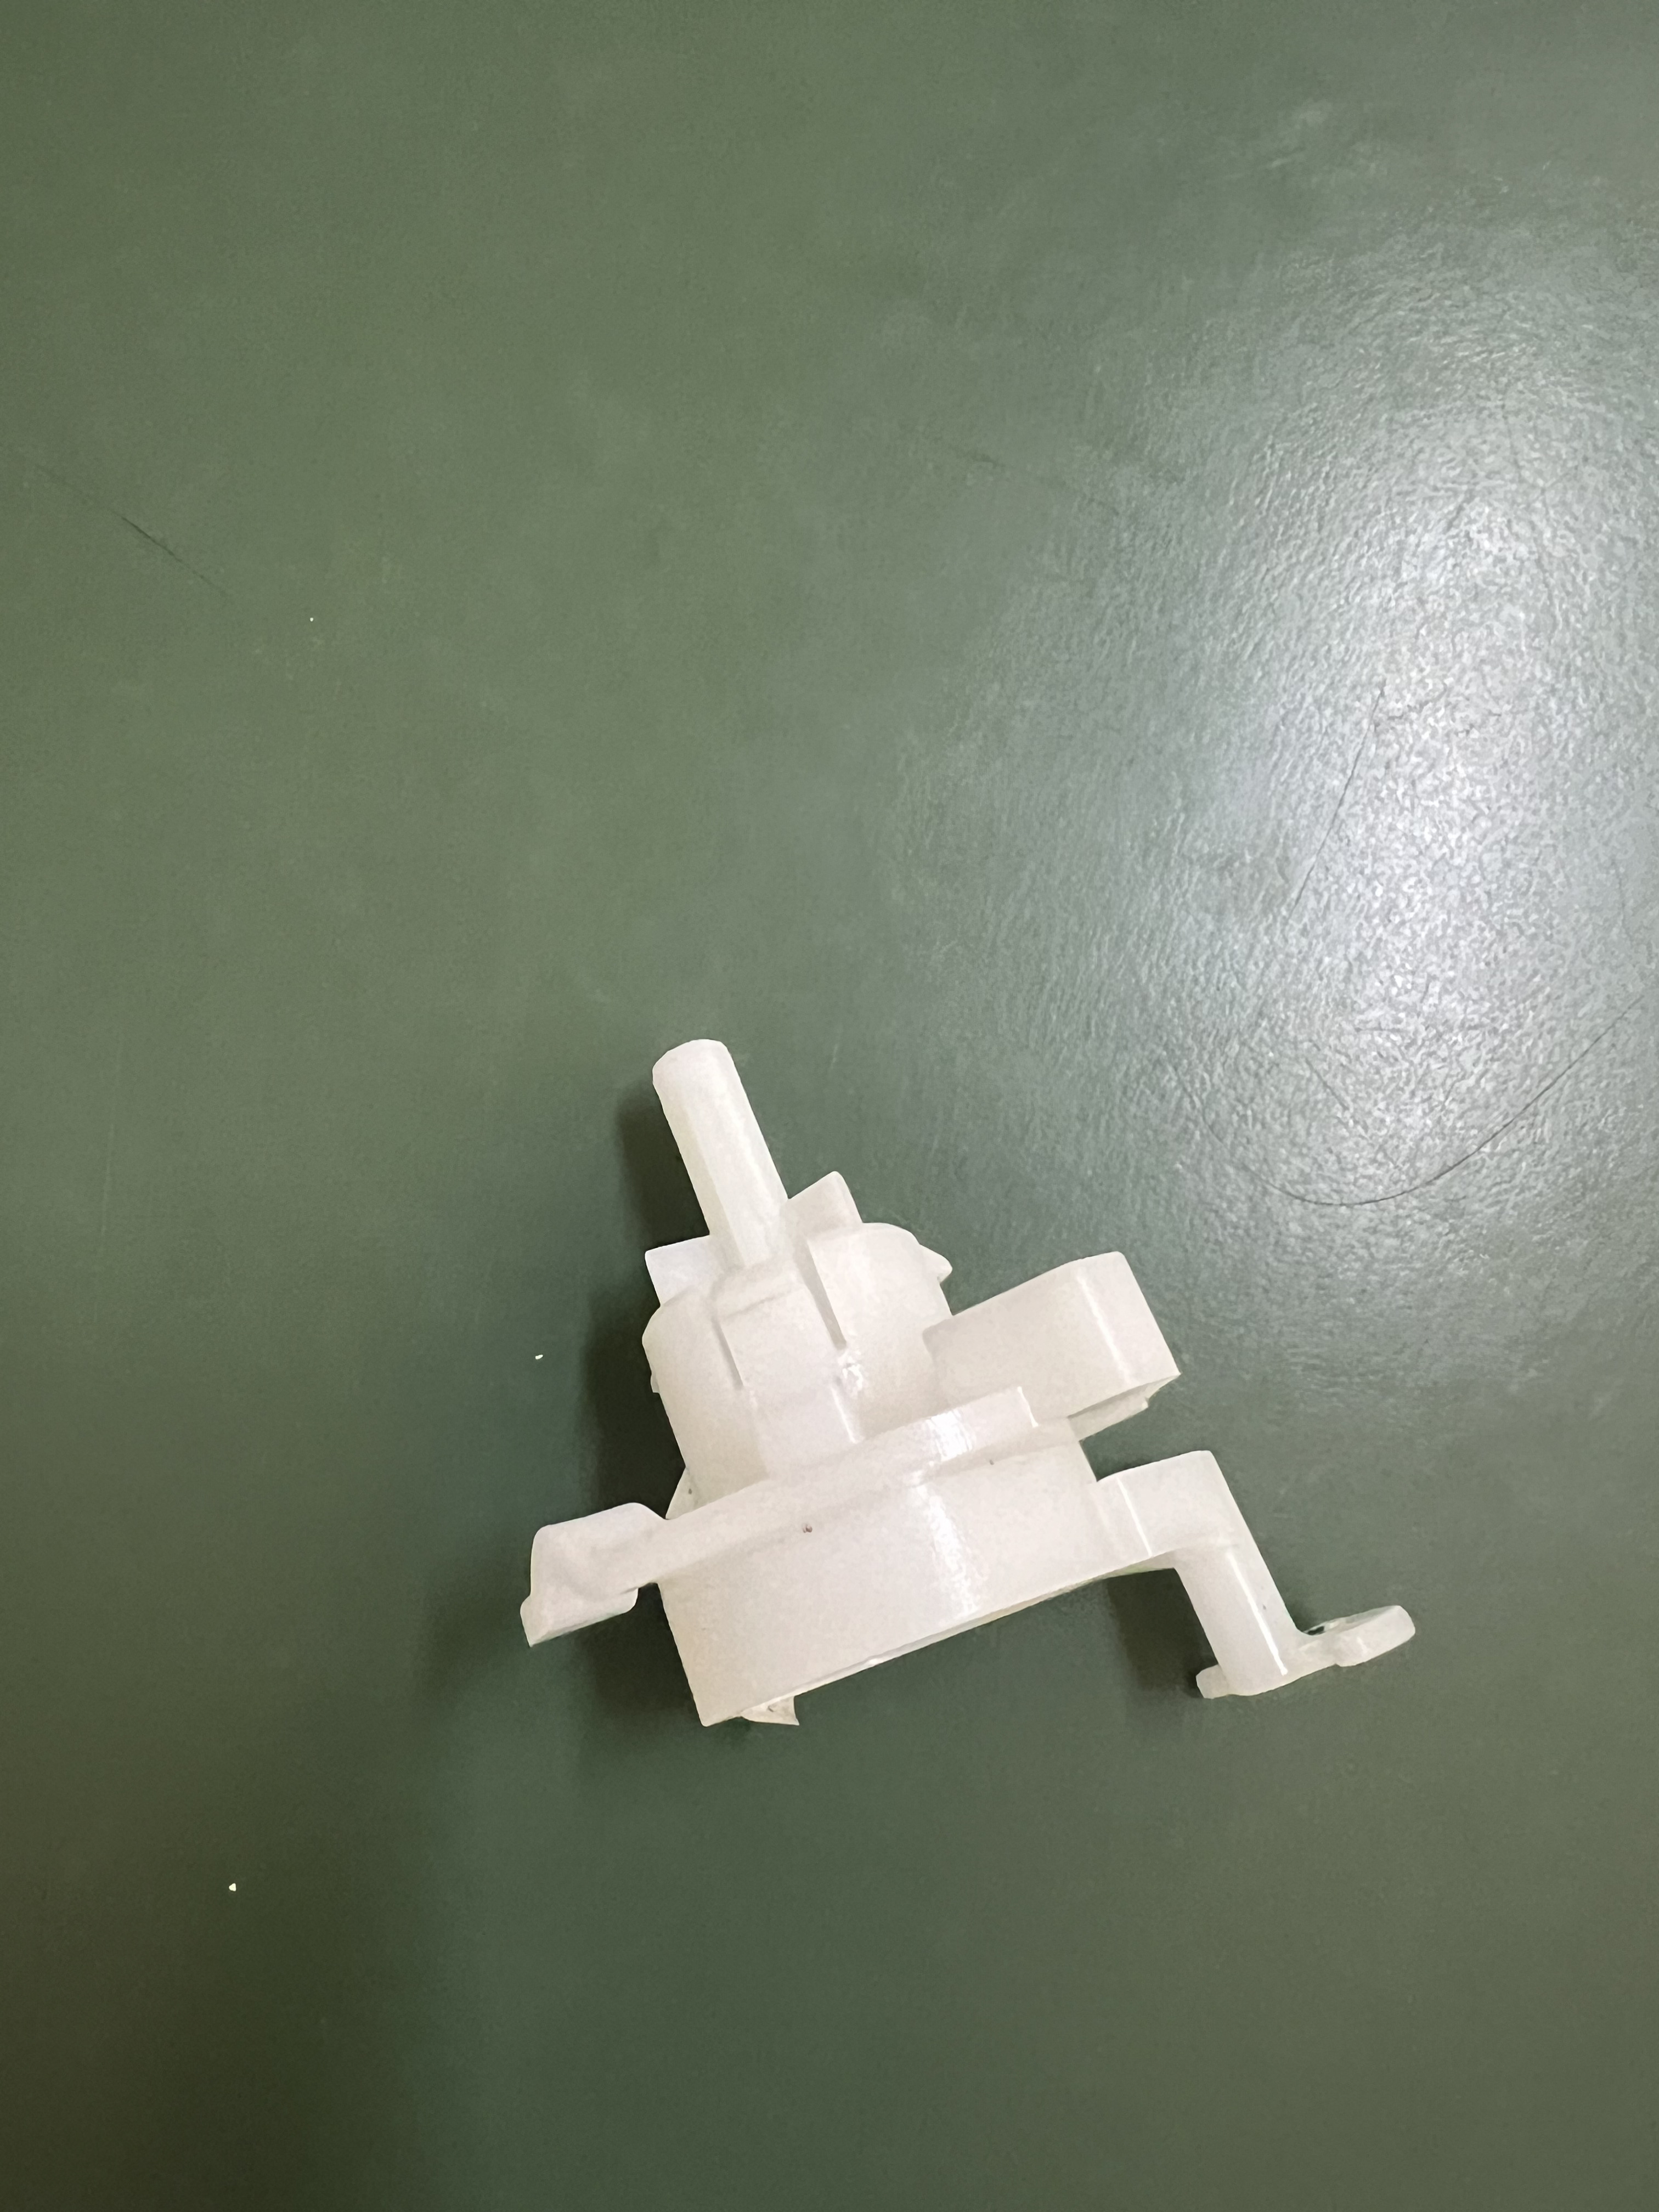drain_lever: (469, 1015, 1446, 1766)
